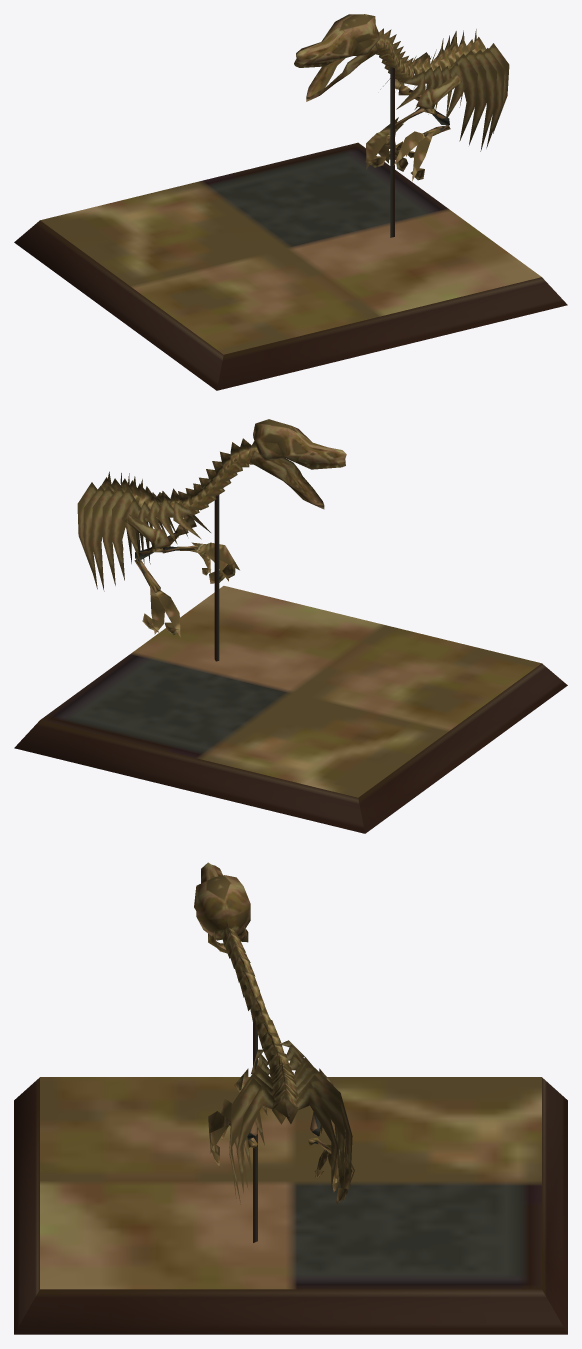
Rendered from int_din_raptor_a.dae.
3 views of the same model, one above another, from view 1: azimuth 30°, elevation 25°; view 2: azimuth 150°, elevation 25°; view 3: azimuth 270°, elevation 25° (orthographic). The views are drawn at different scales.
Parts seen in each view (by area): view 1: int_din_raptor_a; view 2: int_din_raptor_a; view 3: int_din_raptor_a.
Boxes of the visible parts, x1,y1,x2,y2 form: int_din_raptor_a: (14,14,567,390); int_din_raptor_a: (14,419,567,833); int_din_raptor_a: (14,862,567,1334).
Bounding box in the file's own units: 62.75 × 42.5 × 58.5.
1 material, 1 textured.
